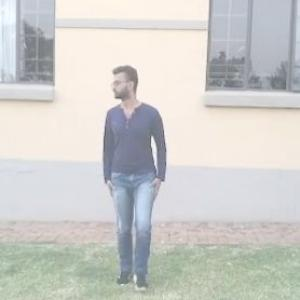follow: (95, 55, 170, 295)
